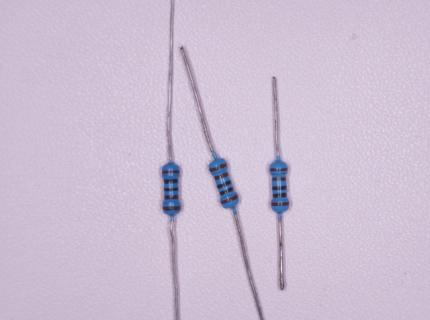Black band: (219, 187, 234, 196), (217, 180, 231, 189), (164, 179, 178, 184), (273, 193, 286, 198), (164, 187, 178, 191), (272, 186, 286, 190)
Brown band: (220, 194, 238, 204), (210, 163, 227, 173), (214, 172, 228, 180), (163, 206, 180, 211), (162, 170, 180, 174), (272, 202, 289, 206), (272, 177, 286, 181), (165, 195, 178, 199), (270, 168, 287, 171)
